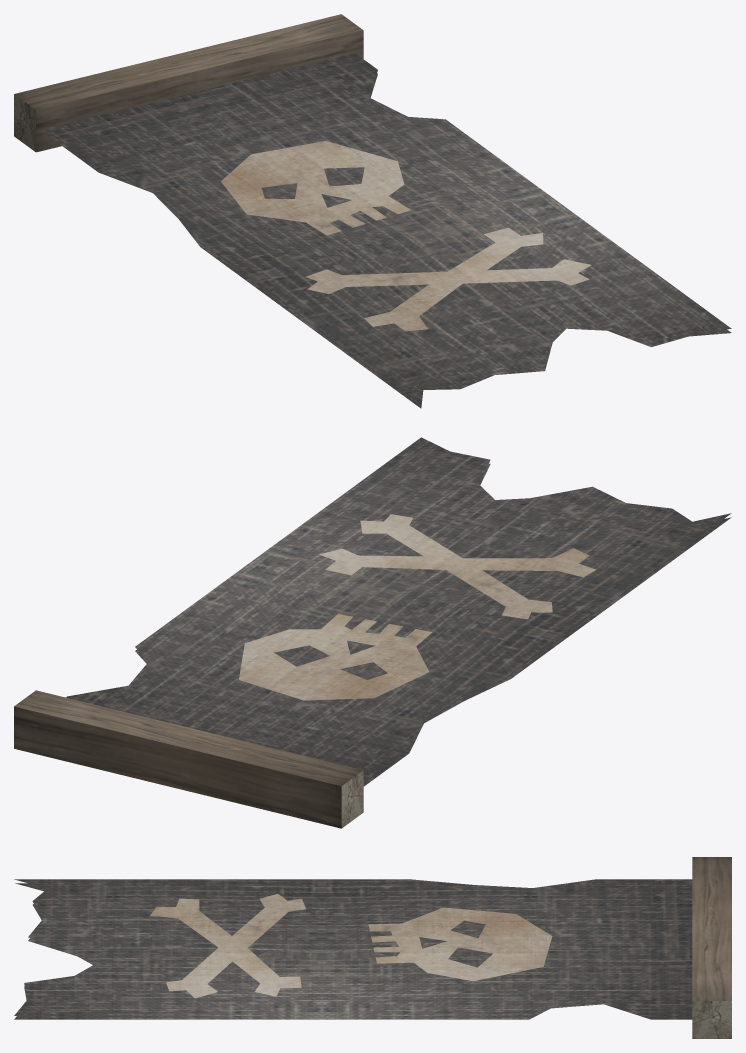
Rendered from Pirate_Banner_Skull_A.fbx.
3 renders of one model, top to bottom at view 1: azimuth 30°, elevation 25°; view 2: azimuth 150°, elevation 25°; view 3: azimuth 270°, elevation 25°, orthographic. The views are drawn at different scales.
Parts seen in each view (by area): view 1: Pirate_Banner_Skull_A; view 2: Pirate_Banner_Skull_A; view 3: Pirate_Banner_Skull_A.
Boxes of the visible parts, <box> form: Pirate_Banner_Skull_A: <box>14,14,731,408</box>; Pirate_Banner_Skull_A: <box>14,437,731,828</box>; Pirate_Banner_Skull_A: <box>14,857,731,1038</box>.
Size of the model in its own units: 1.2 by 0.1485 by 2.54.
